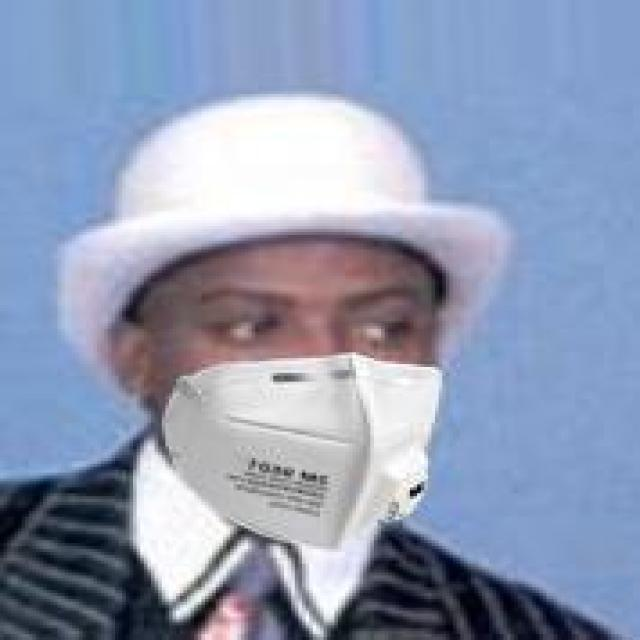mask: (83, 62, 539, 549)
